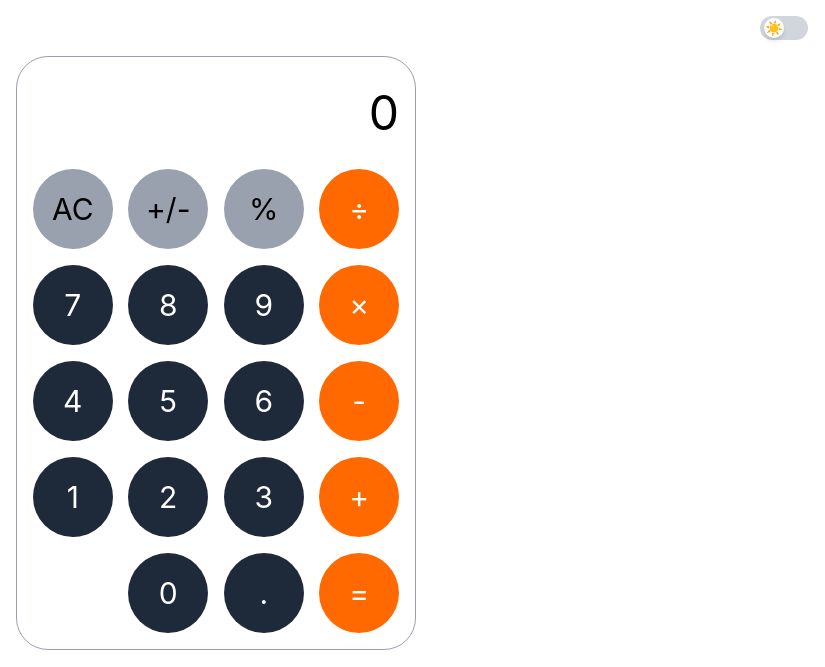
Calculator 功能測試 › 輸入數字與乘法
Click the button with test id "btn-2": {"x": 168, "y": 497} [128,457,208,537]
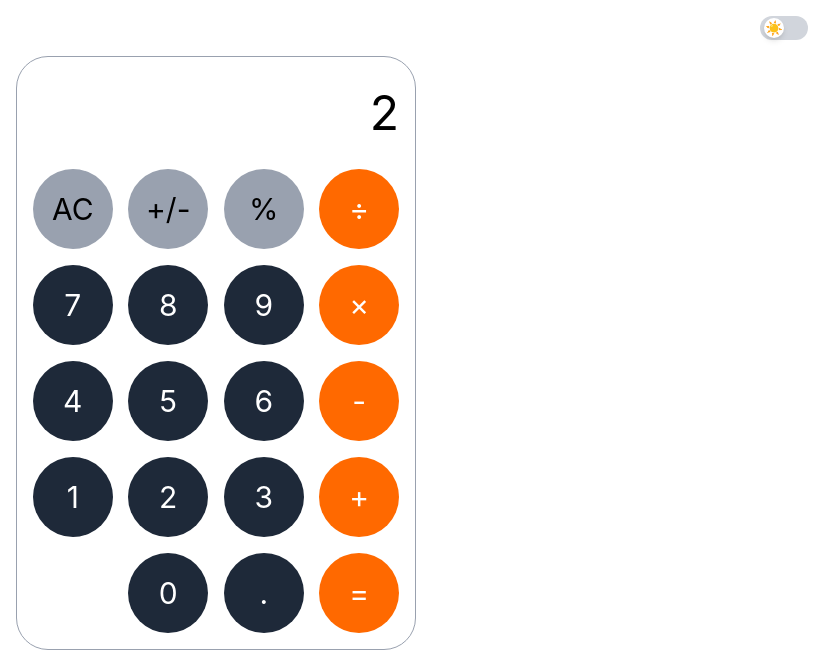
Click the button with test id "btn-×": {"x": 359, "y": 305} [319,265,399,345]
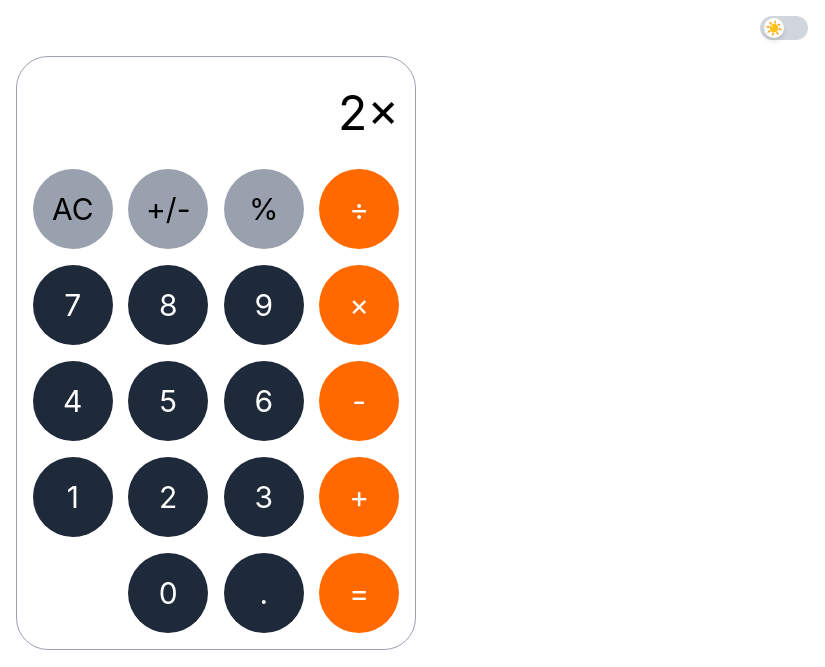
Click the button with test id "btn-2": {"x": 168, "y": 497} [128,457,208,537]
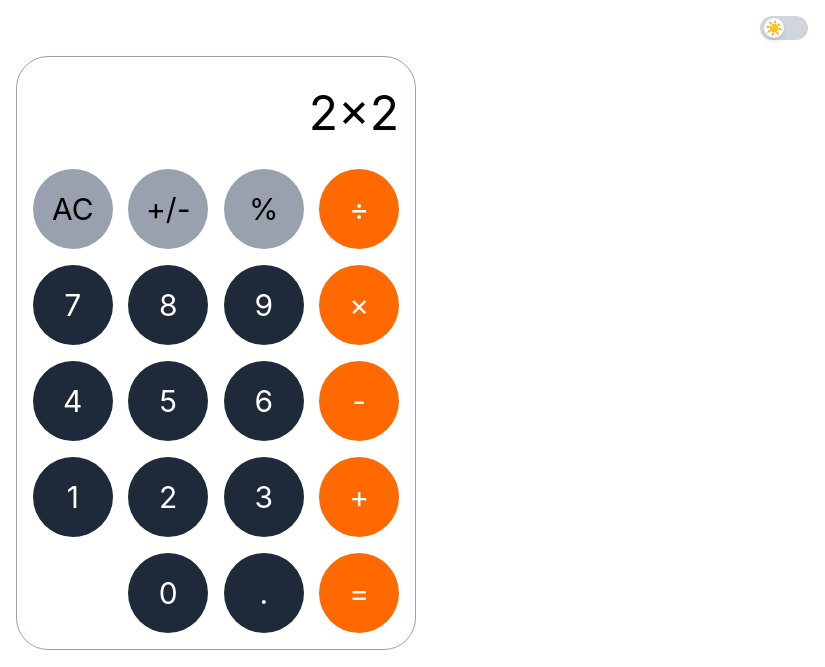
Click the button with test id "btn-=": {"x": 359, "y": 593} [319,553,399,633]
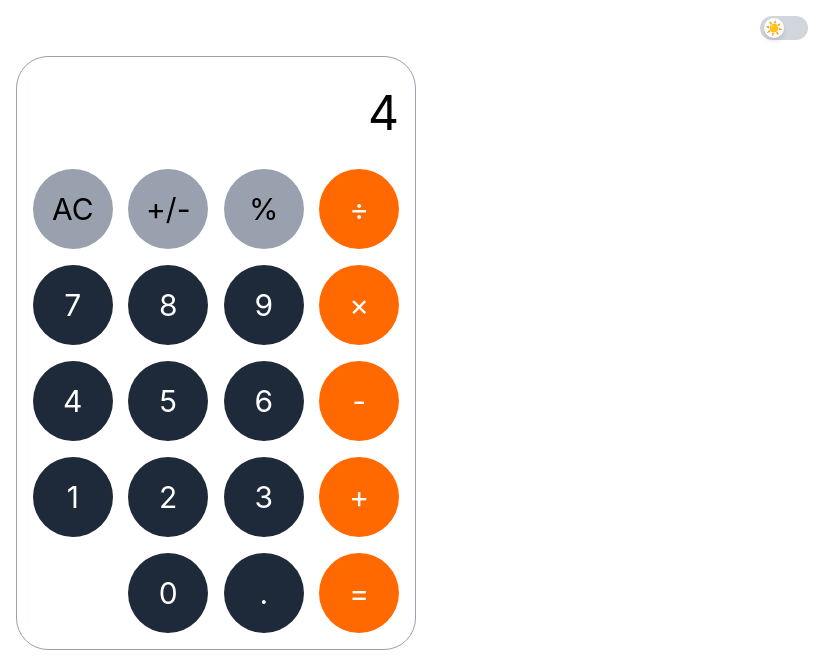
Expected: the text with test id "result" reads "4", [368,83,399,142]
